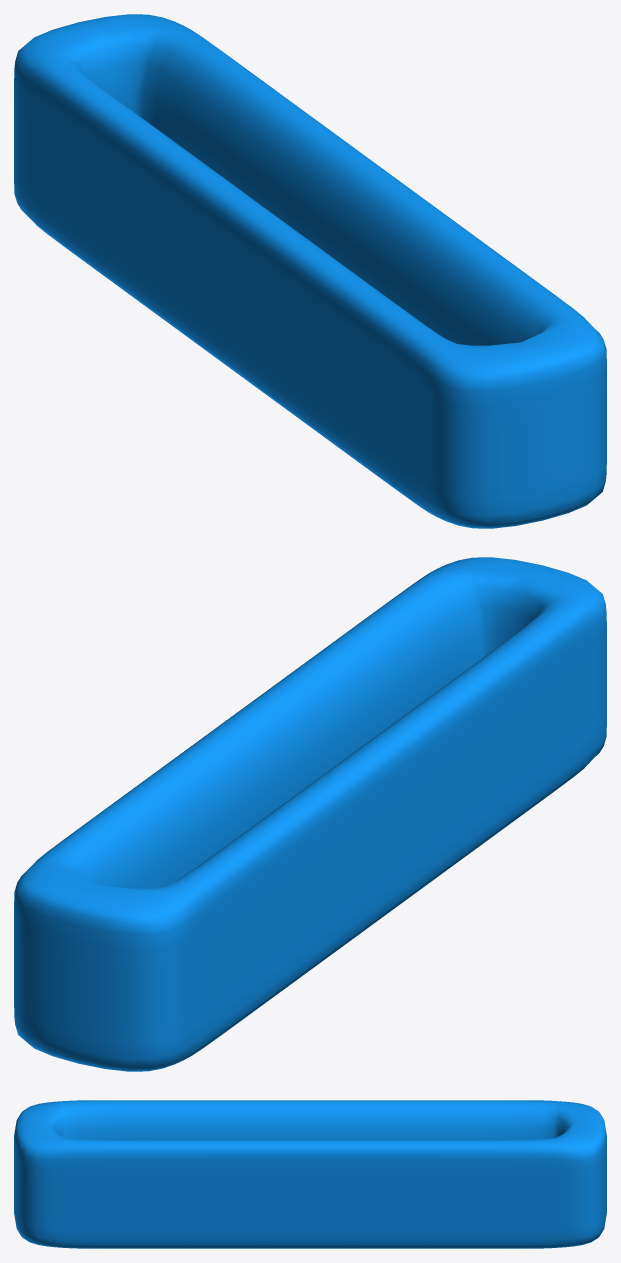
File: paddle2.glb
3 views of the same model, one above another, from view 1: azimuth 30°, elevation 25°; view 2: azimuth 150°, elevation 25°; view 3: azimuth 270°, elevation 25° (orthographic). The views are drawn at different scales.
Parts seen in each view (by area): view 1: Cube.001; view 2: Cube.001; view 3: Cube.001.
Part boxes in pixels (left/top/right/bottom): Cube.001: left=14, top=14, right=606, bottom=528; Cube.001: left=14, top=557, right=606, bottom=1071; Cube.001: left=14, top=1100, right=606, bottom=1248.
Size of the model in its own units: 1.4 by 1.37 by 6.95.
